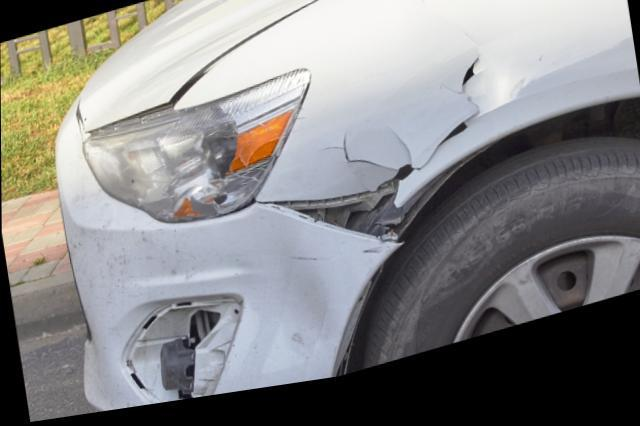crack: (317, 68, 483, 194), (421, 0, 435, 14)
dent: (229, 252, 331, 384), (466, 68, 539, 133)
dislocated part: (84, 200, 402, 415), (75, 0, 346, 137)
lamp broken: (82, 79, 309, 231)
